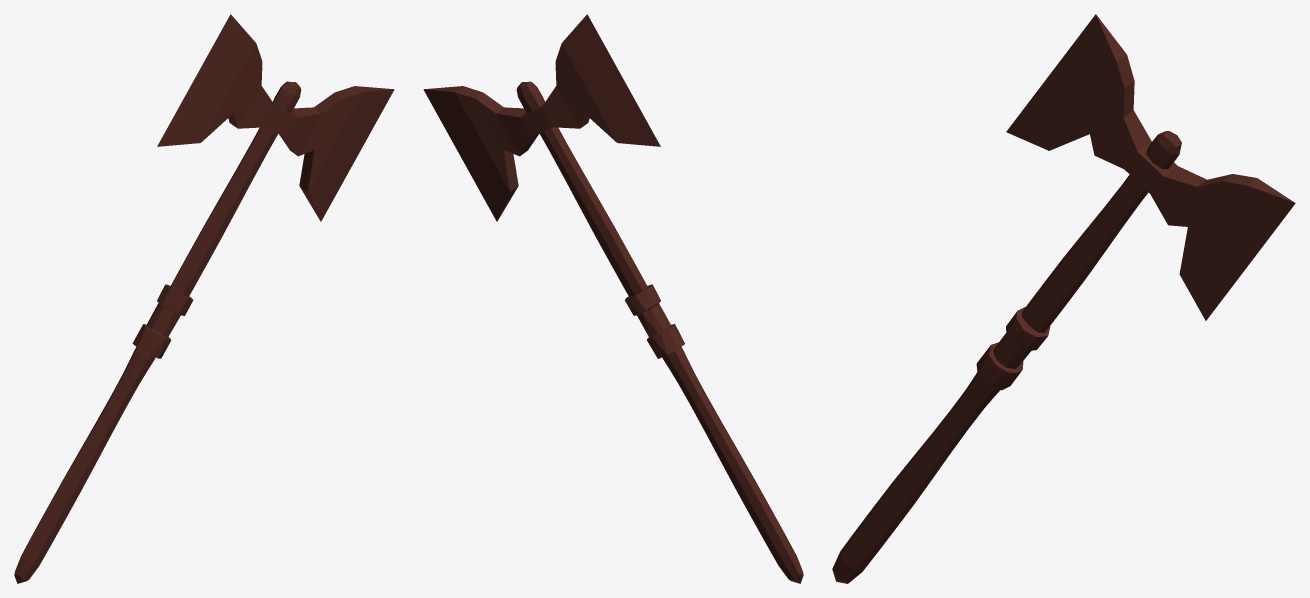
File: Axe.glb
3 renders of one model, left to right at view 1: azimuth 30°, elevation 25°; view 2: azimuth 150°, elevation 25°; view 3: azimuth 330°, elevation 25°, orthographic. The views are drawn at different scales.
Parts seen in each view (by area): view 1: axer; view 2: axer; view 3: axer.
Boxes of the visible parts, <box> form: axer: <box>14,14,394,583</box>; axer: <box>423,14,803,583</box>; axer: <box>832,14,1295,583</box>.
Bounding box in the file's own units: 3 × 3.9 × 0.2267.
